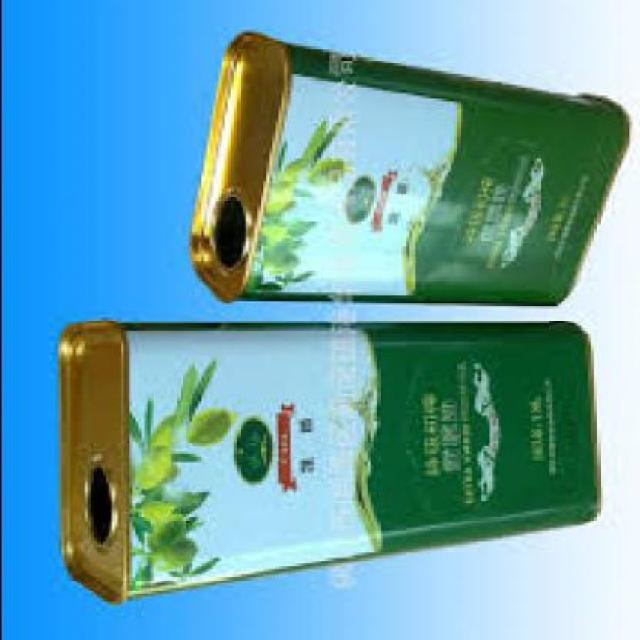METAL: (60, 309, 595, 608), (185, 32, 624, 312)
